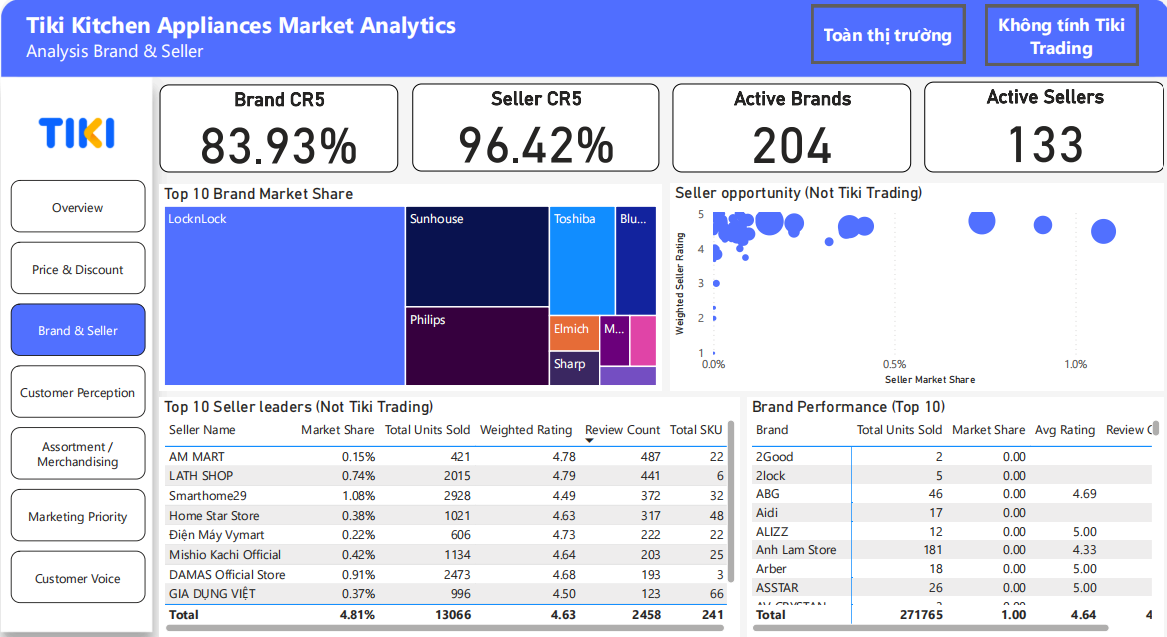

The page's visual inventory and layout, read from the dashboard file:
{"tool":"powerbi","page":{"name":"Brand & Seller","canvas":[1280,720],"ordinal":2},"visuals":[{"type":"textbox","box":[38.6,24.3,904.3,78.6],"z":0},{"type":"card","title":"Brand CR5","fields":{"Values":["_Measures.Brand CR5"]},"box":[185.7,109.5,255.7,94.3],"z":1000},{"type":"card","title":"Seller CR5","fields":{"Values":["_Measures.Seller CR5"]},"box":[455.7,109,264.3,94.3],"z":2000},{"type":"card","title":"Active Brands","fields":{"Values":["_Measures.Active Brand"]},"box":[734.3,108.6,254.3,95.7],"z":3000},{"type":"card","title":"Active Sellers","fields":{"Values":["_Measures.Active Seller"]},"box":[1002.9,107.1,257.1,97.1],"z":4000},{"type":"treemap","title":"Top 10 Brand Market Share","fields":{"Group":["dim_brand.brand_name"],"Values":["_Measures.Total Units Sold"]},"box":[186.3,216.2,536.2,220.4],"z":5000},{"type":"actionButton","box":[881.7,25,165,63.3],"z":8000},{"type":"actionButton","box":[1068.3,25,163.3,65],"z":9000},{"type":"scatterChart","title":"Seller opportunity (Not Tiki Trading)","fields":{"Category":["dim_seller.seller_name"],"Y":["_Measures.Weighted Seller Rating"],"Size":["_Measures.Seller Review Count"],"X":["_Measures.Seller Market Share"]},"box":[731.7,215,528.3,221.7],"z":10000},{"type":"tableEx","title":"Top 10 Seller leaders (Not Tiki Trading)","fields":{"Values":["dim_seller.seller_name","_Measures.Seller Market Share","_Measures.Total Units Sold","_Measures.Weighted Seller Rating","_Measures.Seller Review Count","_Measures.Total SKU"]},"box":[185.8,444,620.1,255.8],"z":11000},{"type":"pivotTable","title":"Brand Performance (Top 10)","fields":{"Rows":["dim_brand.brand_name"],"Values":["_Measures.Total Units Sold","_Measures.Brand Market Share","_Measures.Avg Rating","_Measures.Seller Review Count"]},"box":[814.3,444,445.2,255.8],"z":12000},{"type":"pageNavigator","box":[27,211.9,143.6,456.5],"z":13000}]}

Visuals, with their boxes on the page's 1280x720 design canvas (x1, y1, x2, y2). These are canvas units, not pixel positions in the 1167x637 screenshot, which may show the page scaled, cropped or inside an application window:
textbox: detection(39, 24, 943, 103)
"Brand CR5" card: detection(186, 110, 441, 204)
"Seller CR5" card: detection(456, 109, 720, 203)
"Active Brands" card: detection(734, 109, 989, 204)
"Active Sellers" card: detection(1003, 107, 1260, 204)
"Top 10 Brand Market Share" treemap: detection(186, 216, 722, 437)
actionButton: detection(882, 25, 1047, 88)
actionButton: detection(1068, 25, 1232, 90)
"Seller opportunity (Not Tiki Trading)" scatterChart: detection(732, 215, 1260, 437)
"Top 10 Seller leaders (Not Tiki Trading)" tableEx: detection(186, 444, 806, 700)
"Brand Performance (Top 10)" pivotTable: detection(814, 444, 1260, 700)
pageNavigator: detection(27, 212, 171, 668)
